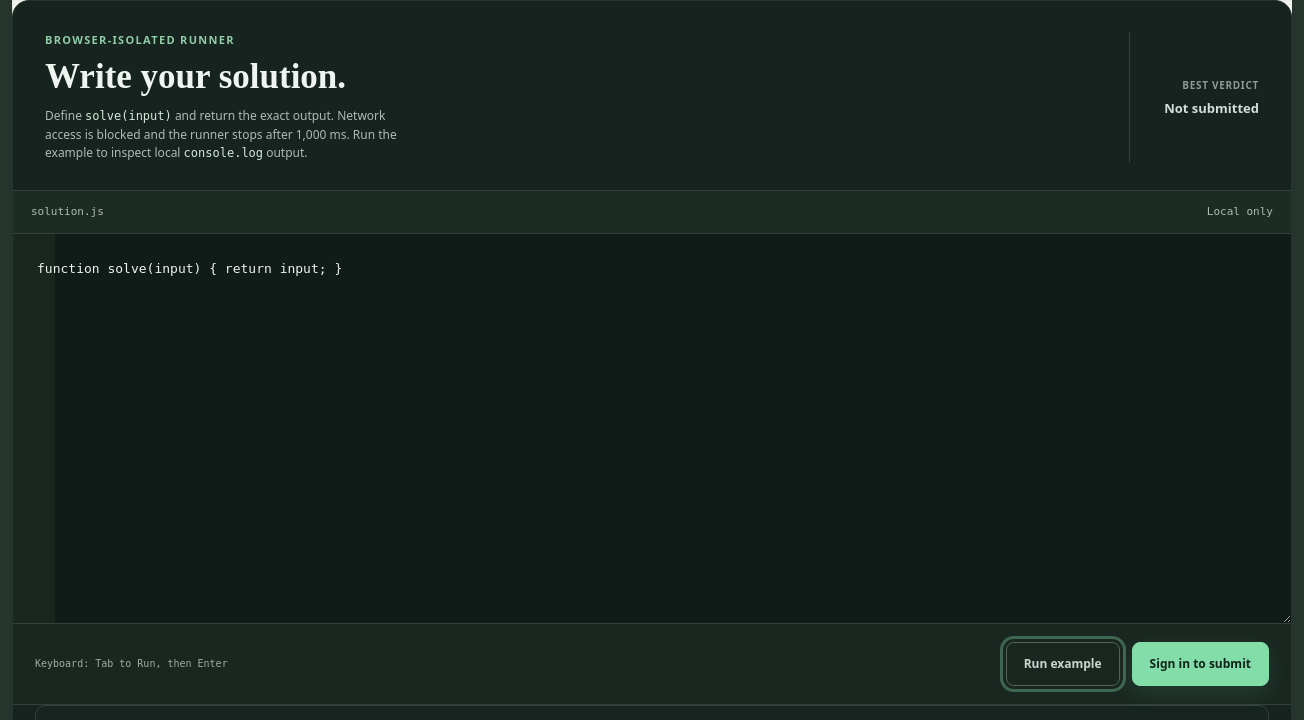
Scenario: CodingWorkspace › runs a public example in the browser without saving
Expected: the text "Keyboard: Tab to Run, then Enter" is shown, [35,656,228,671]
Click the button "Run example".
click(1063, 664)  # box [1006,642,1120,686]
(page scrolled)
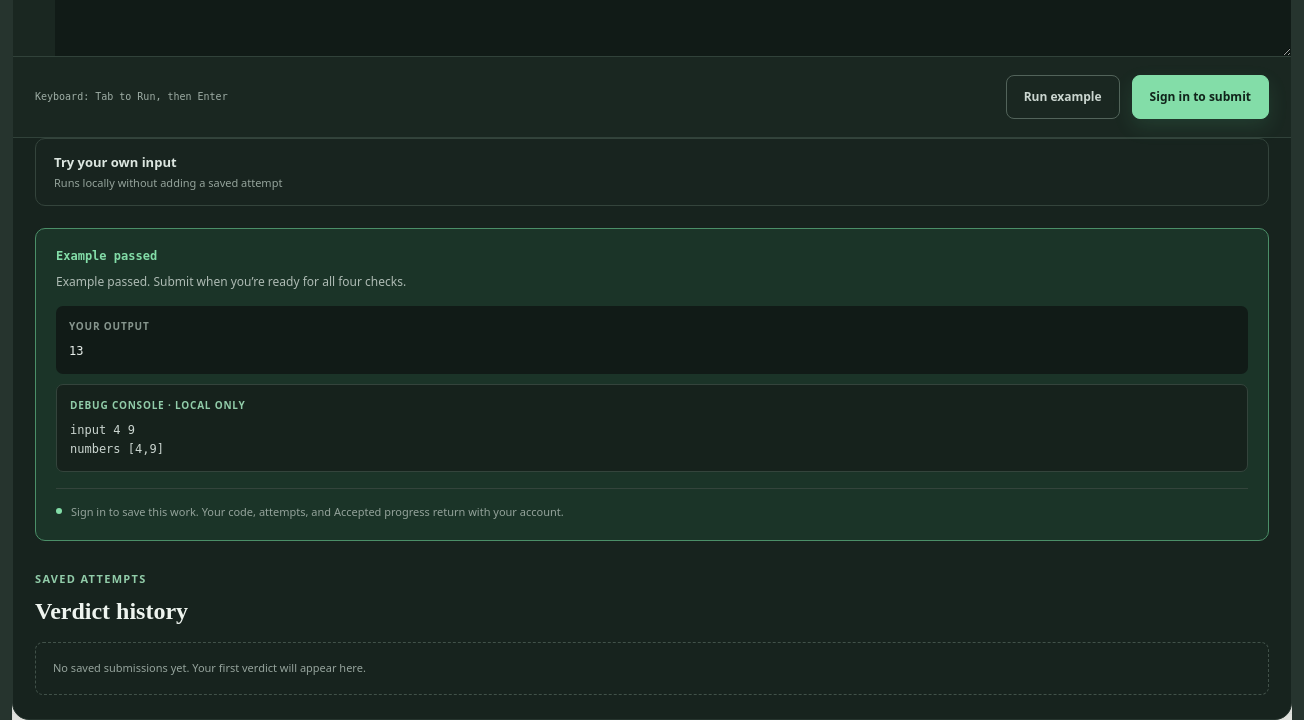
Expected: the text "Example passed" is shown, [56,249,157,263]
Expected: the text "Debug console · local only" is shown, [70,398,246,412]
Expected: the text "input 4 9 numbers [4,9]" is shown, [70,423,164,456]
